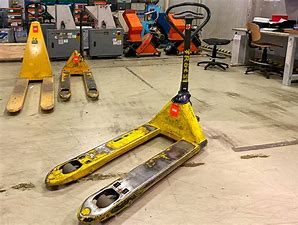Pallet Jack: (43, 1, 211, 225), (7, 2, 55, 116), (58, 2, 104, 99)
